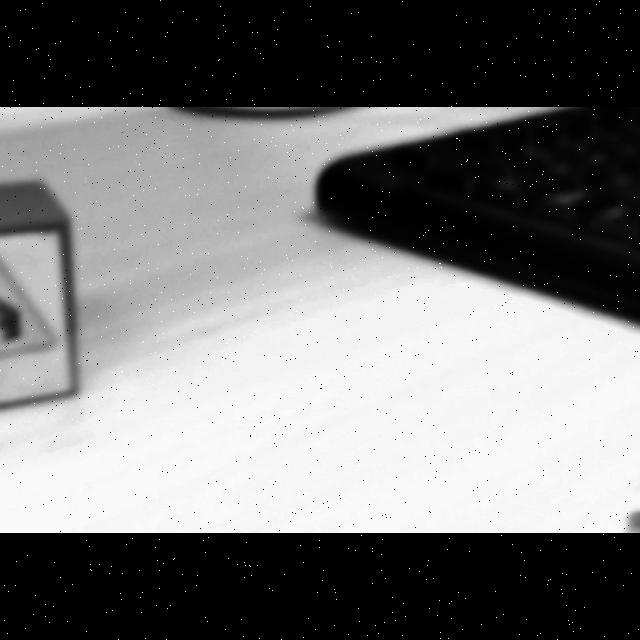Earthquake: (0, 181, 79, 407), (0, 251, 54, 361)
